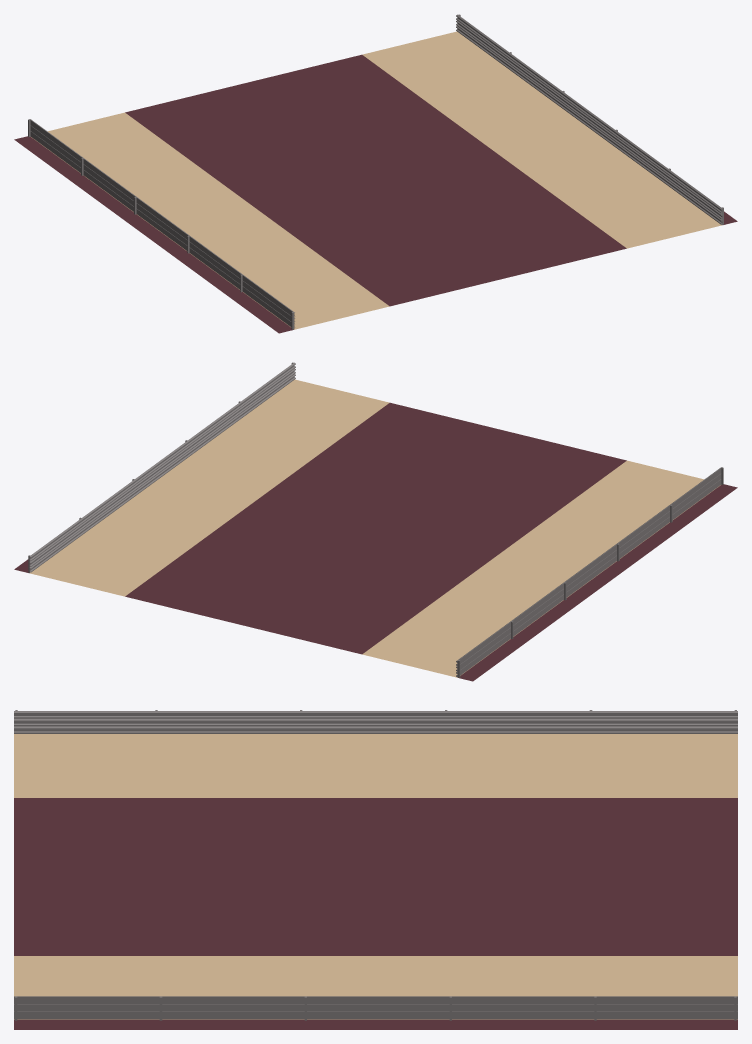
The model's file is tiles-nb-tile-race-track-straight-curbs-sand-nb.glb.
3 renders of one model, top to bottom at view 1: azimuth 30°, elevation 25°; view 2: azimuth 150°, elevation 25°; view 3: azimuth 270°, elevation 25°, orthographic. The views are drawn at different scales.
Visible parts, largest first — view 1: tile-race-track-straight-curbs-sand-nb; view 2: tile-race-track-straight-curbs-sand-nb; view 3: tile-race-track-straight-curbs-sand-nb.
Part boxes in pixels (x1=…): tile-race-track-straight-curbs-sand-nb: x1=14, y1=14, x2=737, y2=333; tile-race-track-straight-curbs-sand-nb: x1=14, y1=362, x2=737, y2=681; tile-race-track-straight-curbs-sand-nb: x1=14, y1=710, x2=737, y2=1029.
Bounding box in the file's own units: 30 × 1.05 × 30.
